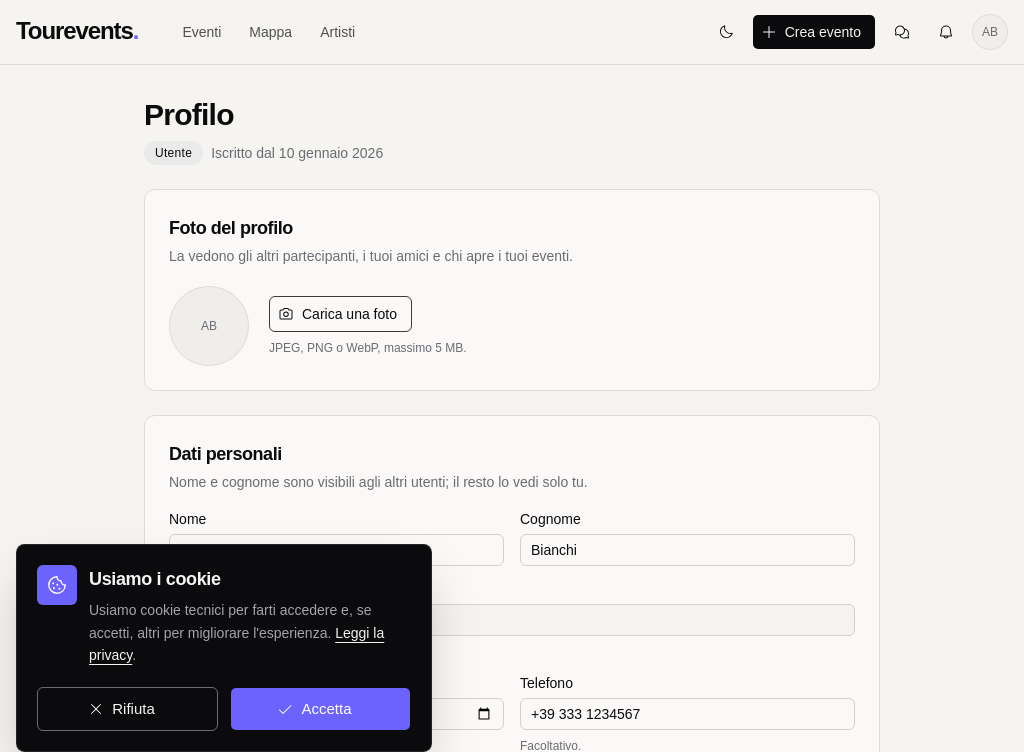
it: ProfilePage: dati personali › validazione nel browser e errori di campo del backend
Replace the text in the field labelled "Telefono" with "abc": (688, 714) x1=520 y1=698 x2=855 y2=730
(page scrolled)
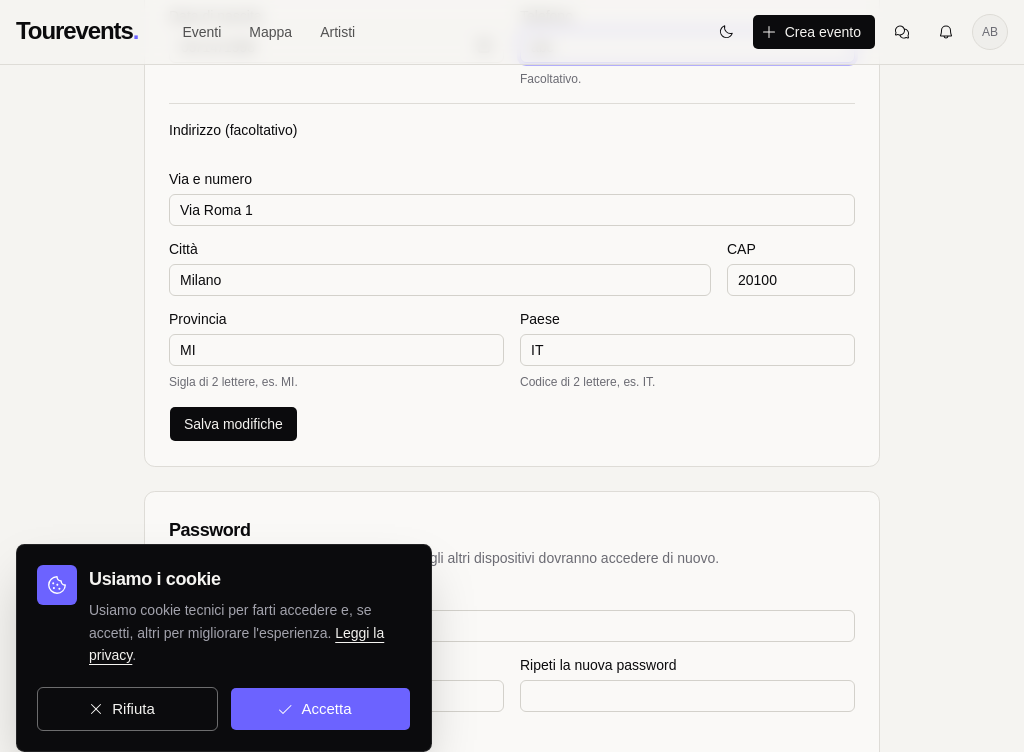
Click the button "Salva modifiche": (233, 424) x1=169 y1=406 x2=298 y2=442
(page scrolled)
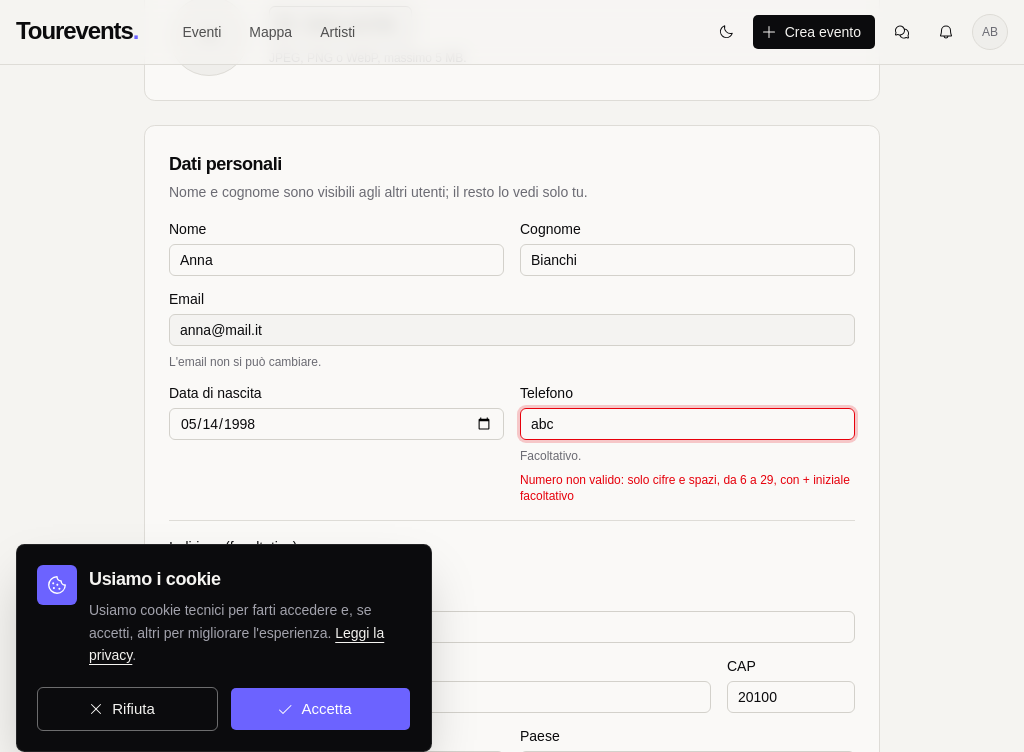
Result: the text "Numero non valido: solo cifre e spazi, da 6 a 29, con + iniziale facoltativo" is shown at x1=520 y1=472 x2=855 y2=504
Clear the field labelled "Telefono": (688, 424) x1=520 y1=408 x2=855 y2=440
(page scrolled)
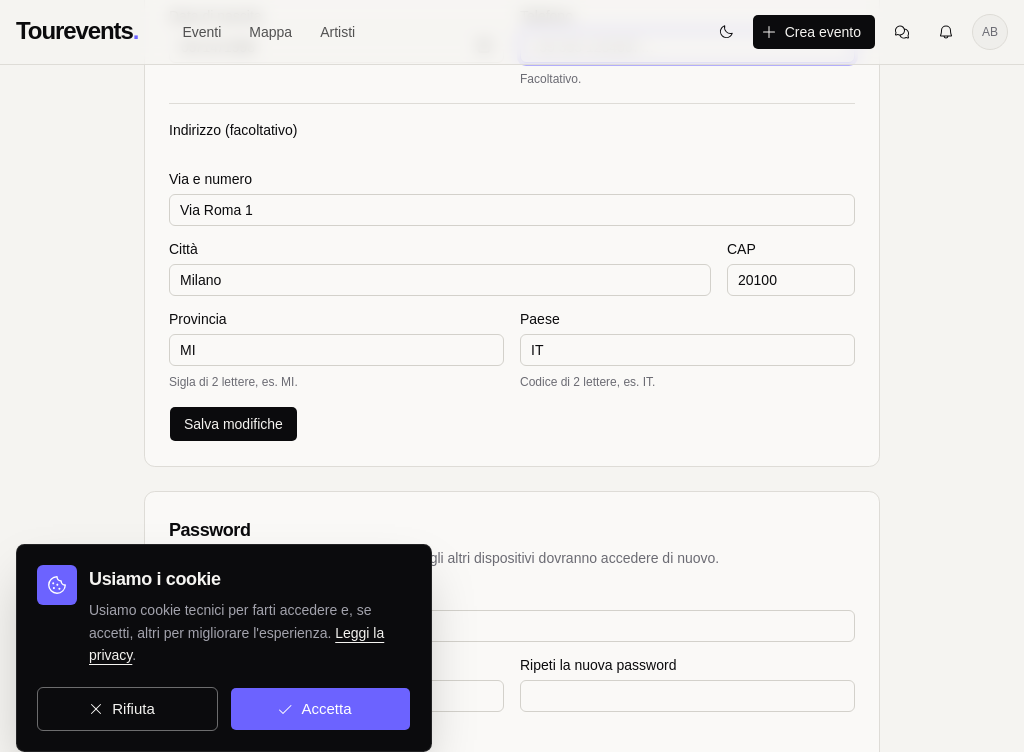
Click the button "Salva modifiche": (233, 424) x1=169 y1=406 x2=298 y2=442
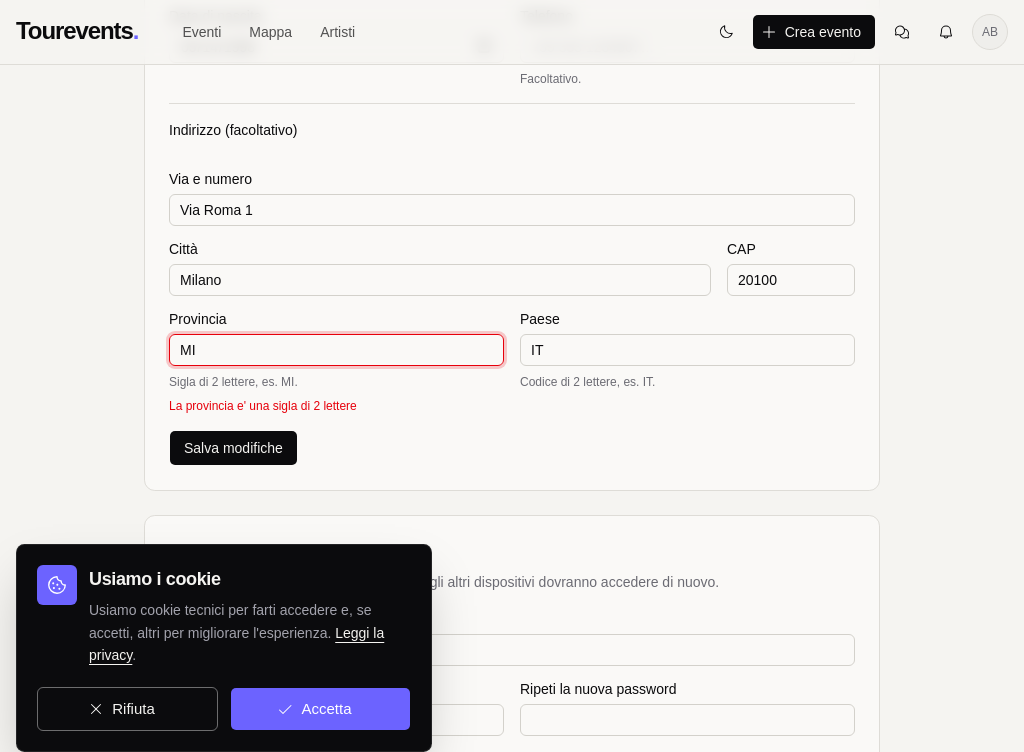
Result: the text "La provincia e' una sigla di 2 lettere" is shown at x1=169 y1=399 x2=357 y2=413
